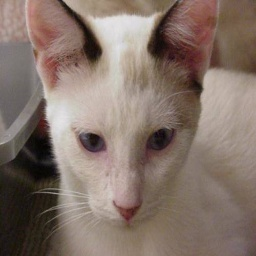cat: (23, 3, 256, 256)
